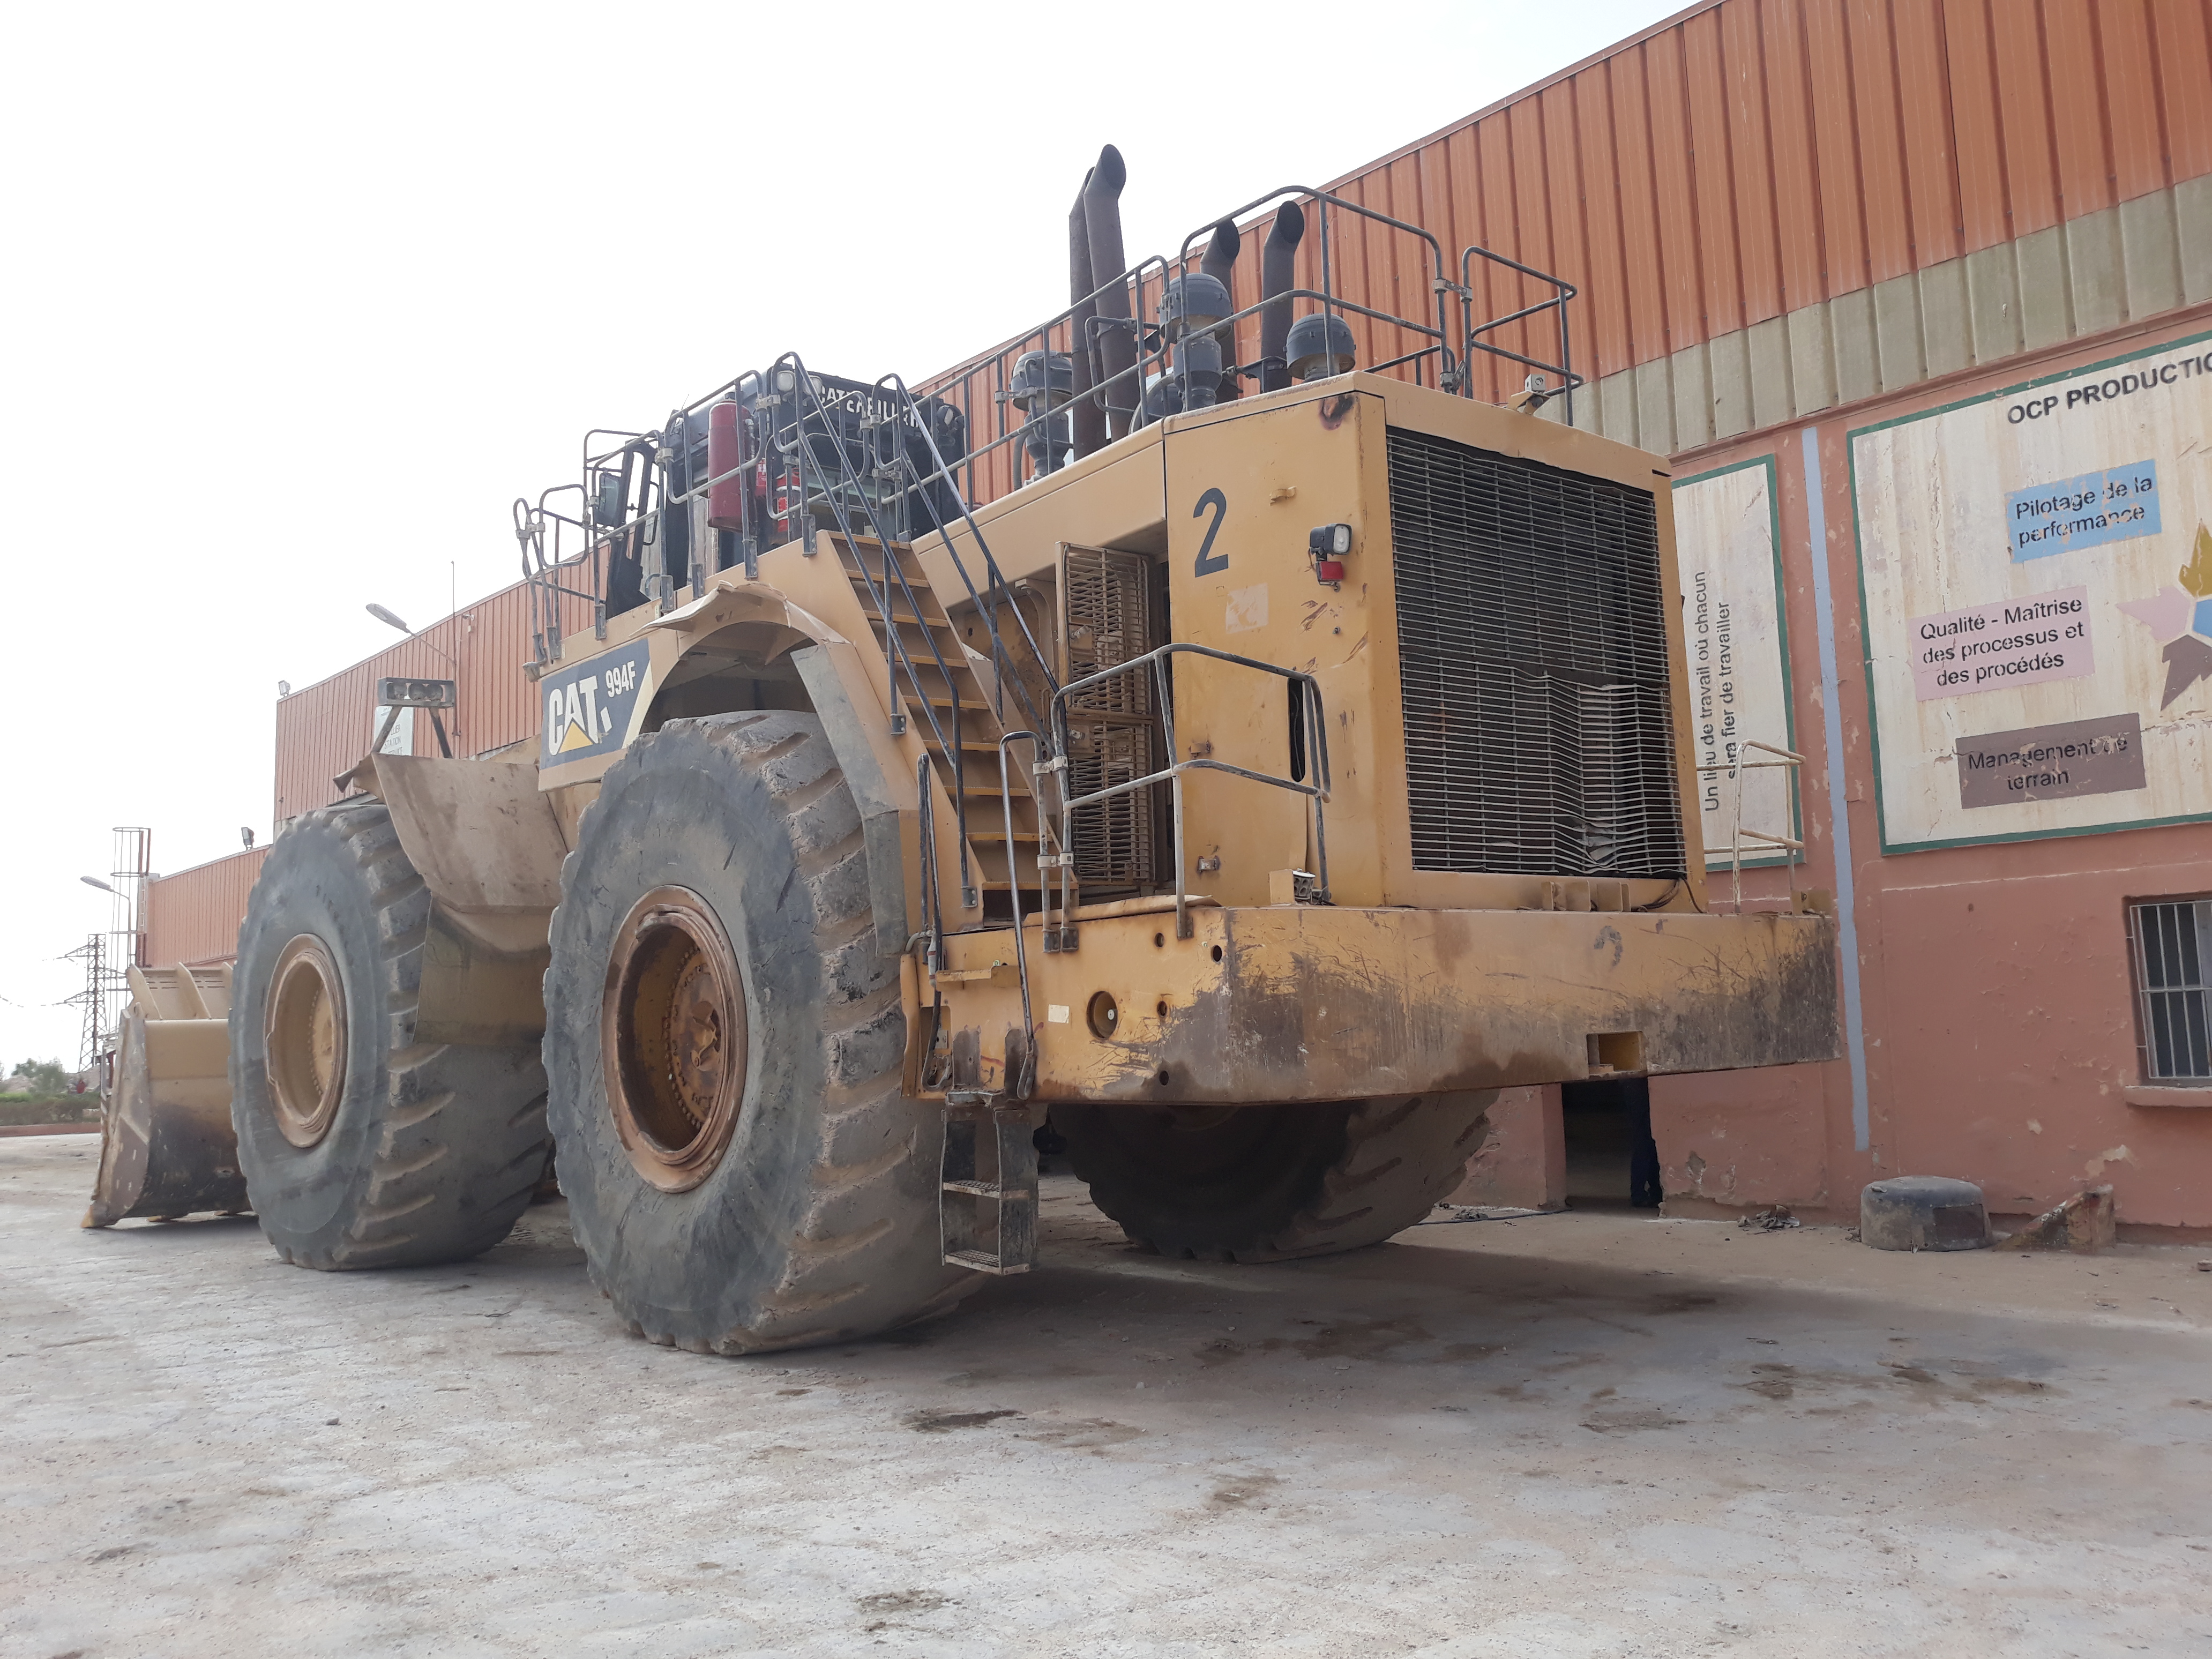chargeuse: (40, 155, 1818, 1448)
